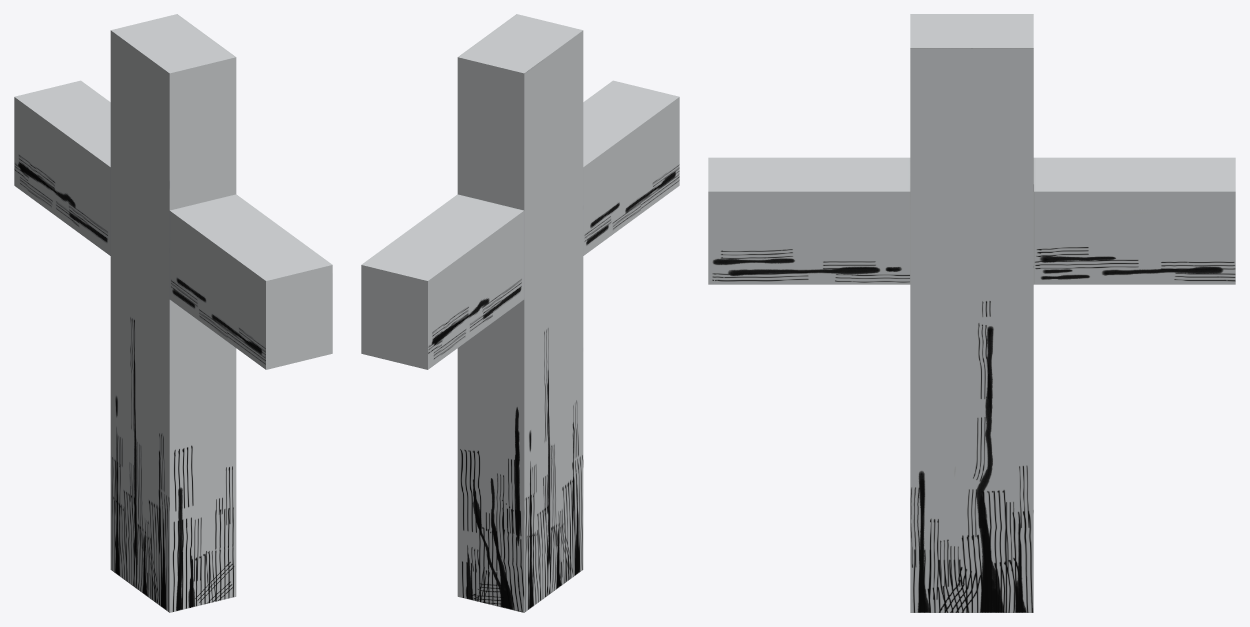
The model's file is 十字架.fbx.
3 views of the same model, side by side, from view 1: azimuth 30°, elevation 25°; view 2: azimuth 150°, elevation 25°; view 3: azimuth 270°, elevation 25° (orthographic). The views are drawn at different scales.
Parts seen in each view (by area): view 1: 立方体; view 2: 立方体; view 3: 立方体.
Part boxes in pixels (x1=…): 立方体: x1=14, y1=14, x2=332, y2=612; 立方体: x1=361, y1=14, x2=679, y2=612; 立方体: x1=708, y1=14, x2=1235, y2=612.
Bounding box in the file's own units: 63.07 × 488 × 413.
Materials: 1 (1 with a texture image).
